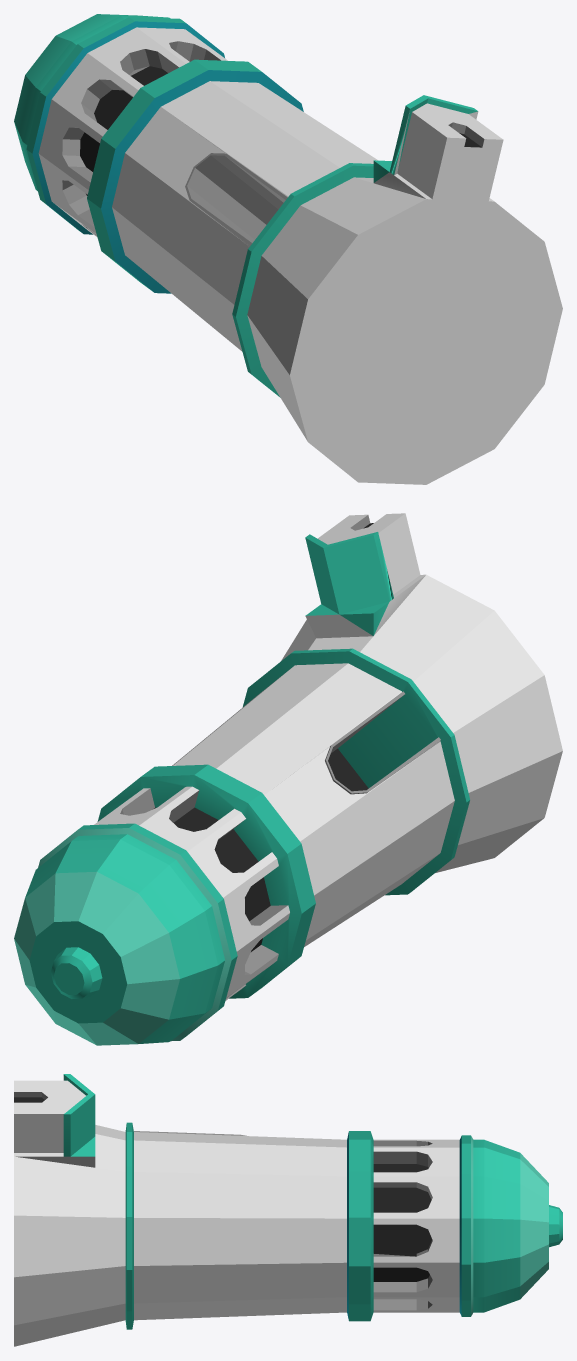
The model's file is building_1.fbx.
3 views of the same model, one above another, from view 1: azimuth 30°, elevation 25°; view 2: azimuth 150°, elevation 25°; view 3: azimuth 270°, elevation 25° (orthographic). The views are drawn at different scales.
Visible parts, largest first — view 1: building_1; view 2: building_1; view 3: building_1.
Boxes of the visible parts, x1,y1,x2,y2 form: building_1: [14, 14, 562, 484]; building_1: [14, 513, 562, 1045]; building_1: [14, 1074, 562, 1346].
Size of the model in its own units: 183 by 223 by 415.
